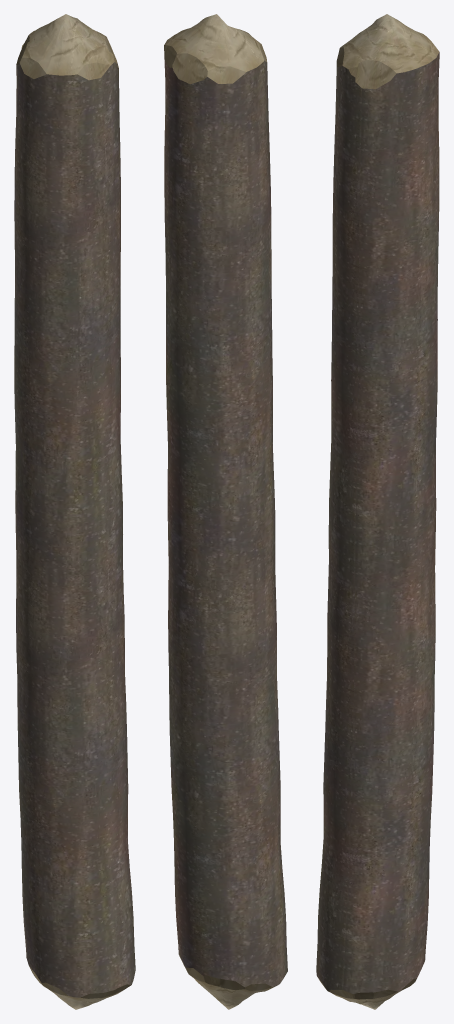
The picture shows the model from 3 angles, left to right: view 1: azimuth 90°, elevation 25°; view 2: azimuth 150°, elevation 25°; view 3: azimuth 330°, elevation 25°; orthographic projection.
Visible parts, largest first — view 1: SM_BM_Ash_Tree_03_half_mid_LOD0; view 2: SM_BM_Ash_Tree_03_half_mid_LOD0; view 3: SM_BM_Ash_Tree_03_half_mid_LOD0.
Part boxes in pixels (<box>): SM_BM_Ash_Tree_03_half_mid_LOD0: <box>14,14,135,1009</box>; SM_BM_Ash_Tree_03_half_mid_LOD0: <box>164,14,287,1009</box>; SM_BM_Ash_Tree_03_half_mid_LOD0: <box>316,14,439,1009</box>.
Size of the model in its own units: 0.5053 by 4.71 by 0.5229.
Materials: 1 (1 with a texture image).
